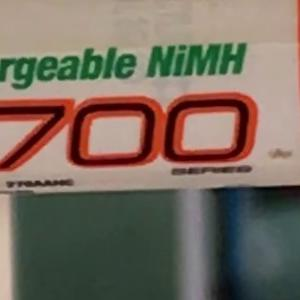keyword: (137, 33, 256, 87)
